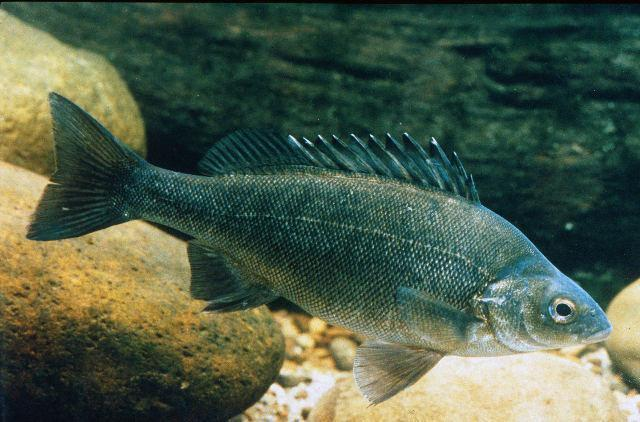Silver Perch: (24, 90, 616, 404)
